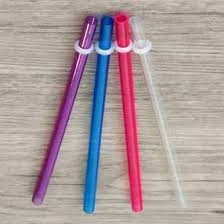drinking_straw: (26, 11, 99, 210), (123, 11, 191, 213), (75, 13, 119, 218), (110, 11, 146, 216)
